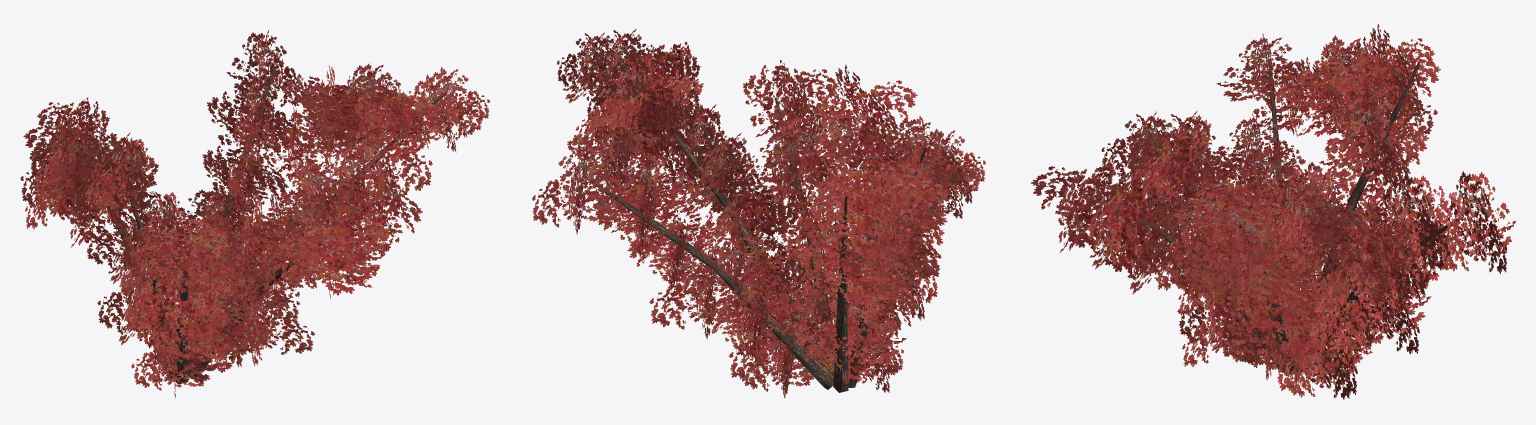
The model's file is bush_3d_05_red_lod1.glb.
The picture shows the model from 3 angles, left to right: view 1: azimuth 30°, elevation 25°; view 2: azimuth 150°, elevation 25°; view 3: azimuth 270°, elevation 25°; orthographic projection. The views are drawn at different scales.
Parts seen in each view (by area): view 1: foliage_cards, wood_geometry; view 2: foliage_cards, wood_geometry; view 3: foliage_cards, wood_geometry.
Boxes of the visible parts, left/top/right/bottom form: foliage_cards: left=20, top=29, right=490, bottom=398; wood_geometry: left=64, top=67, right=443, bottom=384; foliage_cards: left=532, top=29, right=985, bottom=397; wood_geometry: left=582, top=52, right=958, bottom=392; foliage_cards: left=1031, top=24, right=1516, bottom=399; wood_geometry: left=1139, top=58, right=1462, bottom=374.
Size of the model in its own units: 2.79 by 1.71 by 2.5.
Materials: 2 (2 with a texture image).
